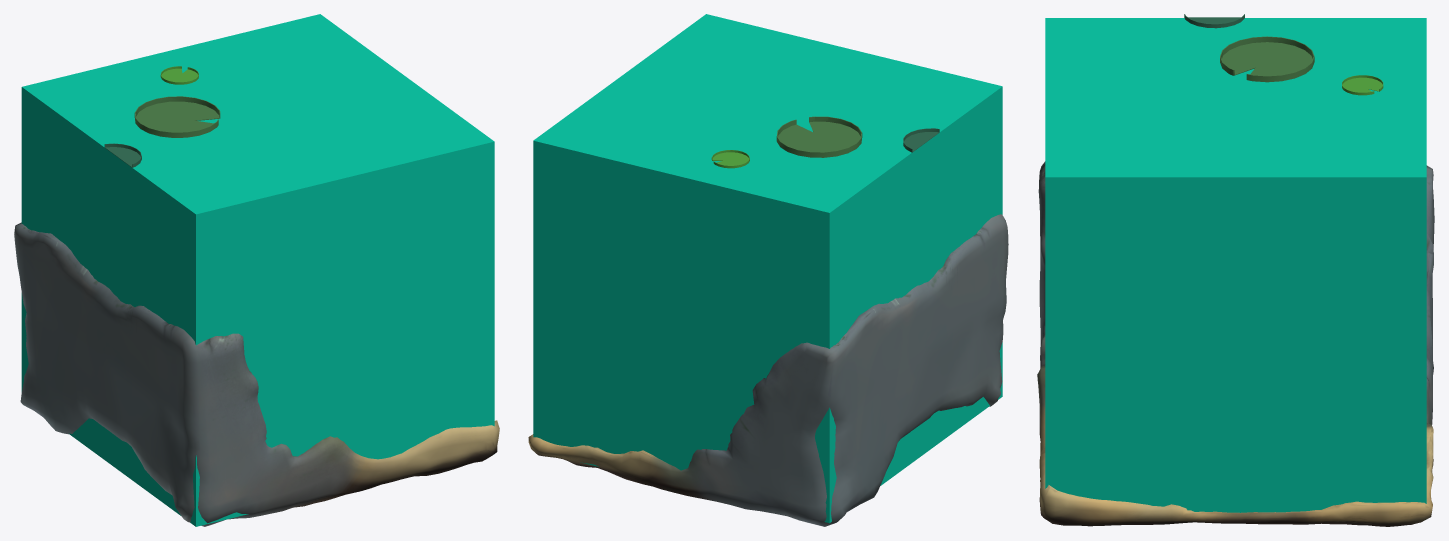
3 renders of one model, left to right at view 1: azimuth 30°, elevation 25°; view 2: azimuth 150°, elevation 25°; view 3: azimuth 270°, elevation 25°, orthographic. The views are drawn at different scales.
Parts seen in each view (by area): view 1: pCube1, Volume10, pCylinder4, pCylinder7; view 2: pCube1, Volume10, pCylinder4, pCylinder7; view 3: pCube1, Volume10, pCylinder4, pCylinder7, pCylinder6.
Part boxes in pixels (x1=…): pCube1: x1=21, y1=14, x2=494, y2=526; Volume10: x1=14, y1=222, x2=499, y2=526; pCylinder4: x1=134, y1=96, x2=220, y2=137; pCylinder7: x1=160, y1=66, x2=198, y2=84; pCube1: x1=533, y1=14, x2=1002, y2=523; Volume10: x1=528, y1=214, x2=1008, y2=526; pCylinder4: x1=776, y1=116, x2=862, y2=157; pCylinder7: x1=711, y1=150, x2=749, y2=168; pCube1: x1=1045, y1=18, x2=1426, y2=512; Volume10: x1=1037, y1=161, x2=1434, y2=526; pCylinder4: x1=1220, y1=36, x2=1314, y2=82; pCylinder7: x1=1342, y1=75, x2=1383, y2=95; pCylinder6: x1=1184, y1=14, x2=1244, y2=28.
Bounding box in the file's own units: 15.58 × 15.53 × 15.62.
9 materials, 4 textured.
